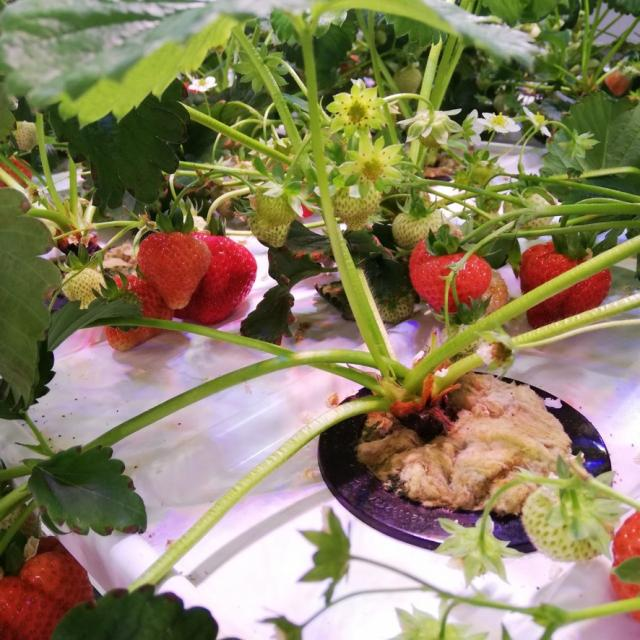Healthy Fruit: (523, 458, 626, 562), (175, 232, 257, 325), (137, 232, 211, 310), (527, 270, 613, 329), (410, 240, 466, 312), (520, 242, 586, 294), (392, 209, 444, 250), (456, 254, 493, 304), (449, 287, 458, 313)
